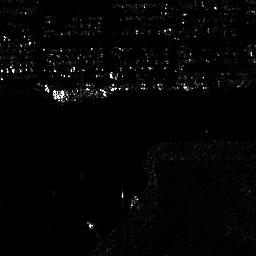ship: (51, 84, 112, 104)
